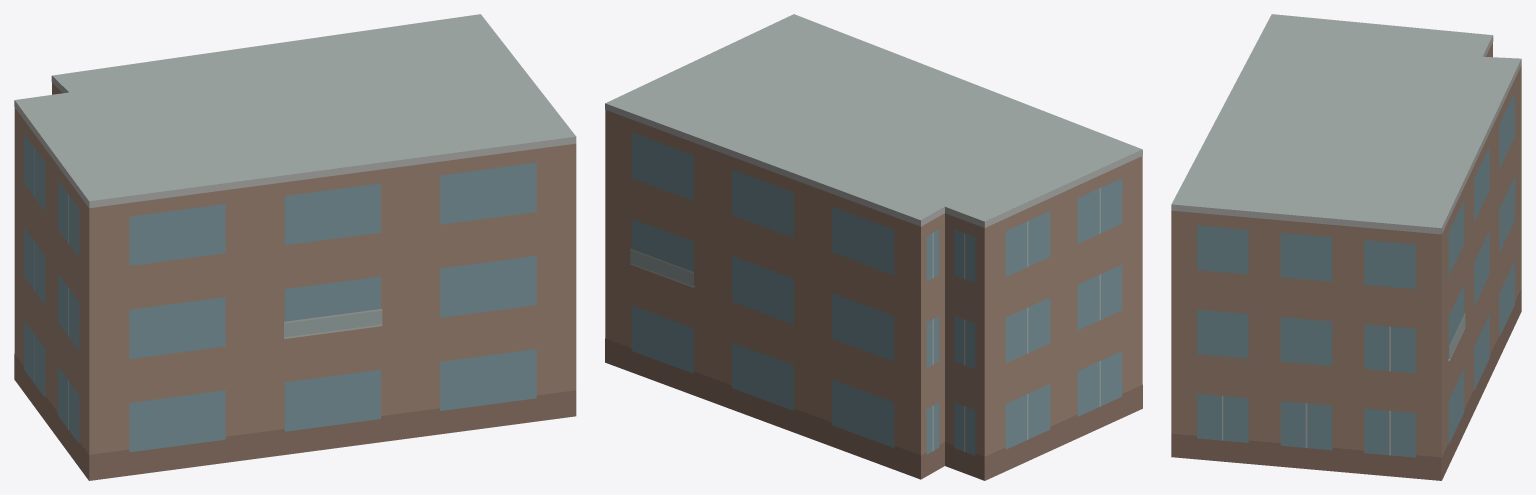
File: survey-upis-32558751.glb
The picture shows the model from 3 angles, left to right: view 1: azimuth 30°, elevation 25°; view 2: azimuth 150°, elevation 25°; view 3: azimuth 270°, elevation 25°; orthographic projection. The views are drawn at different scales.
Parts seen in each view (by area): view 1: survey-upis-32558751.tmp; view 2: survey-upis-32558751.tmp; view 3: survey-upis-32558751.tmp.
Part boxes in pixels (<box>): survey-upis-32558751.tmp: <box>14,14,576,480</box>; survey-upis-32558751.tmp: <box>605,14,1142,480</box>; survey-upis-32558751.tmp: <box>1171,14,1521,480</box>.
Size of the model in its own units: 18.01 by 9.9 by 12.45.
